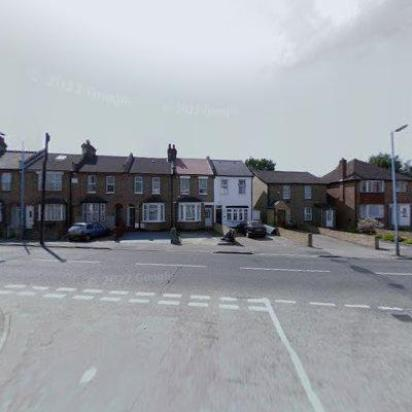stationary-car-offstreet: (66, 221, 108, 243), (234, 222, 268, 240)
